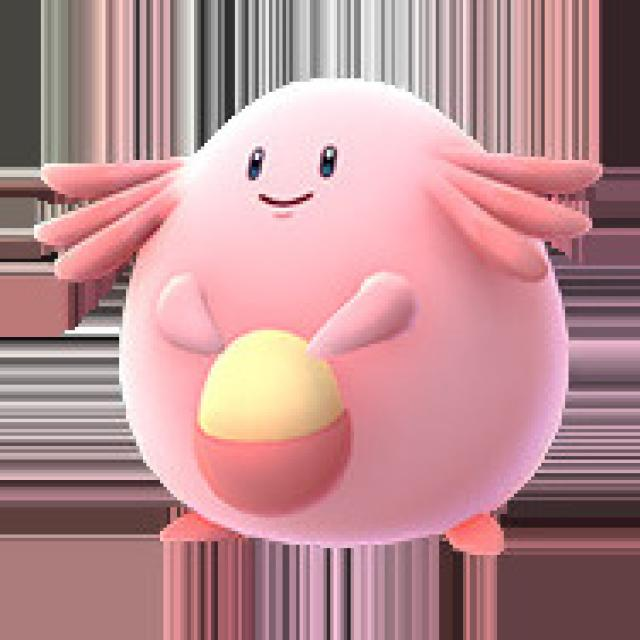Chansey: (39, 79, 596, 563)
